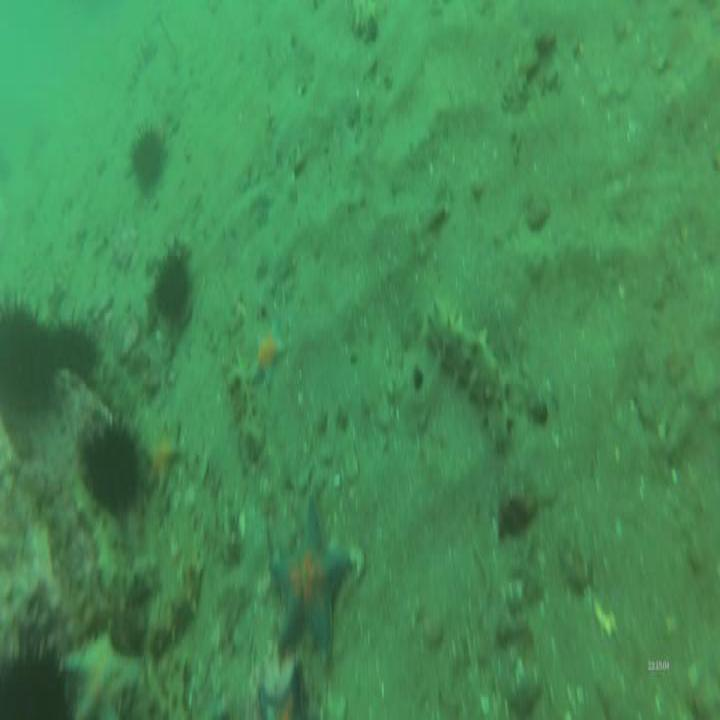echinus: (77, 407, 145, 525), (0, 290, 56, 425), (0, 633, 73, 720), (45, 306, 104, 391), (148, 229, 193, 331), (125, 121, 173, 199)
holothurian: (418, 292, 517, 454), (135, 551, 204, 660), (225, 348, 265, 468), (202, 452, 241, 566)
starfish: (264, 486, 352, 670), (141, 426, 183, 500), (250, 316, 287, 393), (252, 674, 312, 720)
